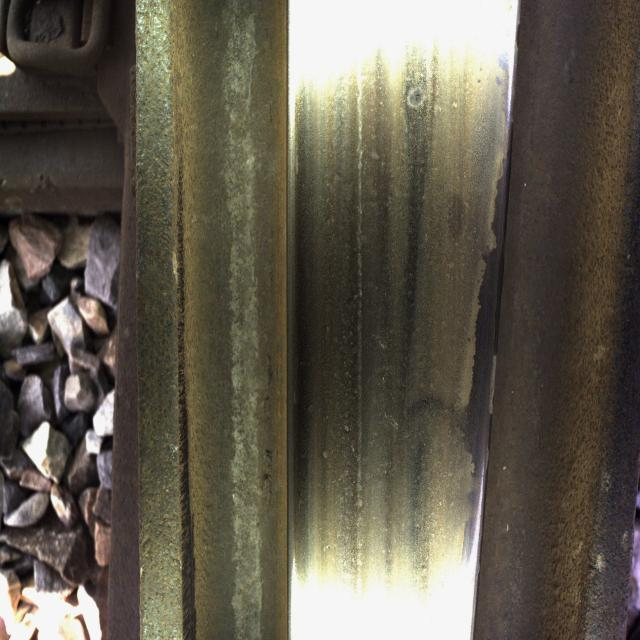scar: (308, 26, 462, 569)
